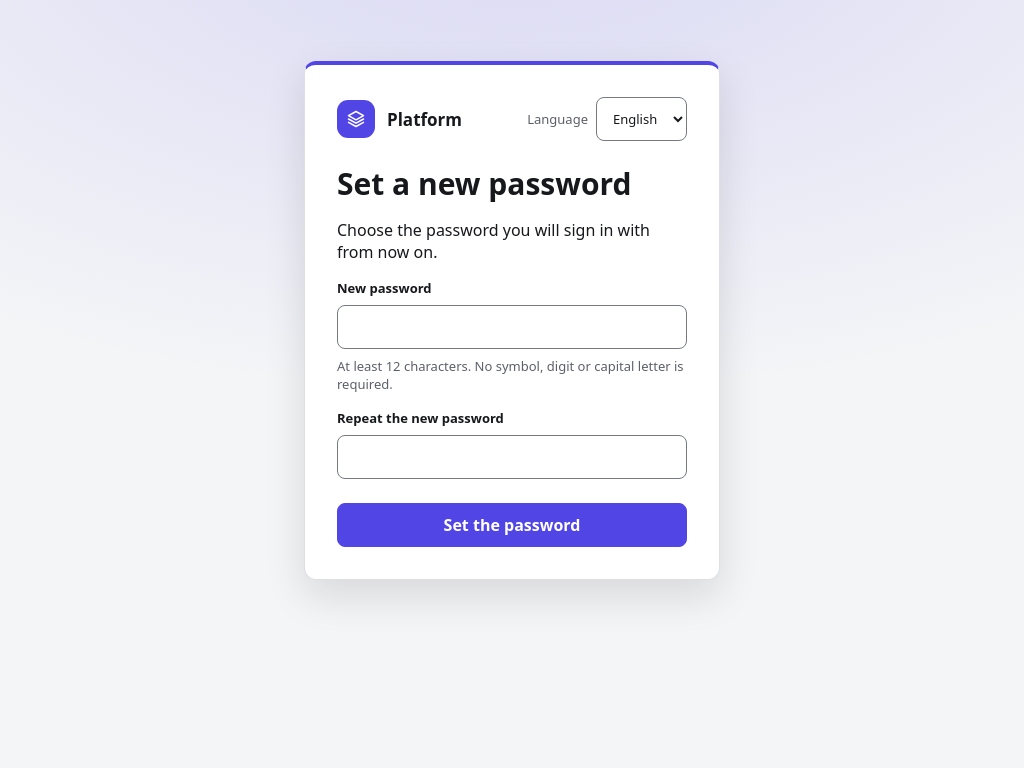
Scenario: reset — the token from the fragment, one message for a token that cannot be used › asks nothing of the API when the two fields differ
Type "one password" into the password field labelled "New password". click: (512, 327)
box: 337,305 -> 687,349
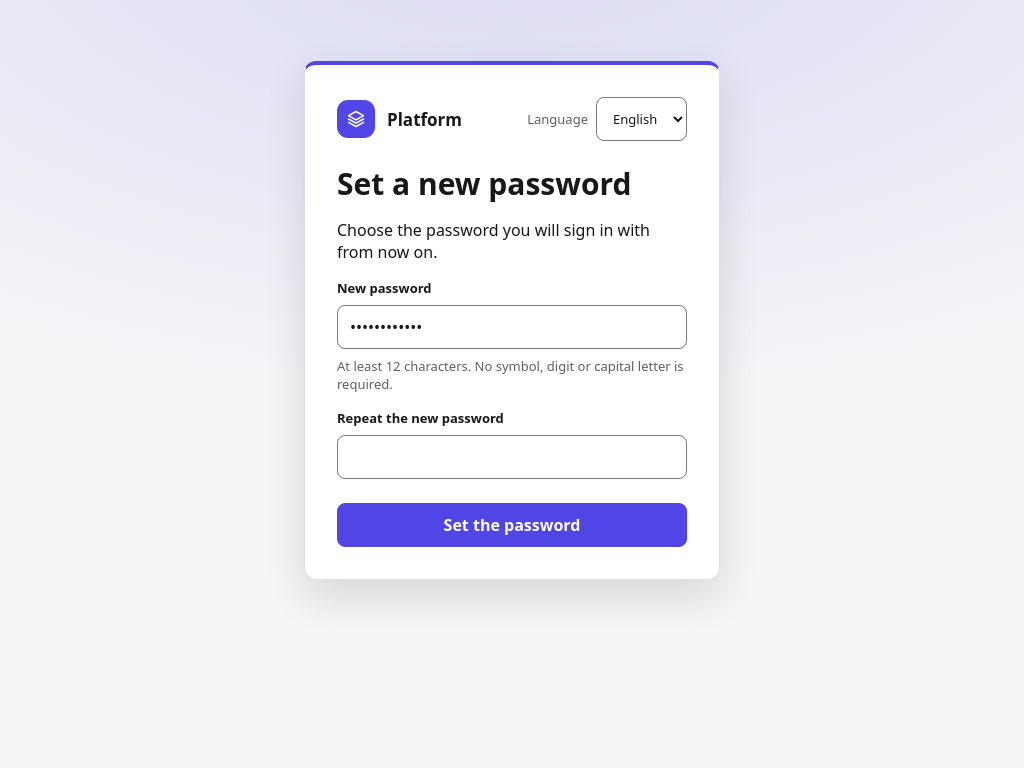
Type "another password" into the password field labelled "Repeat the new password". click: (512, 457)
box: 337,435 -> 687,479
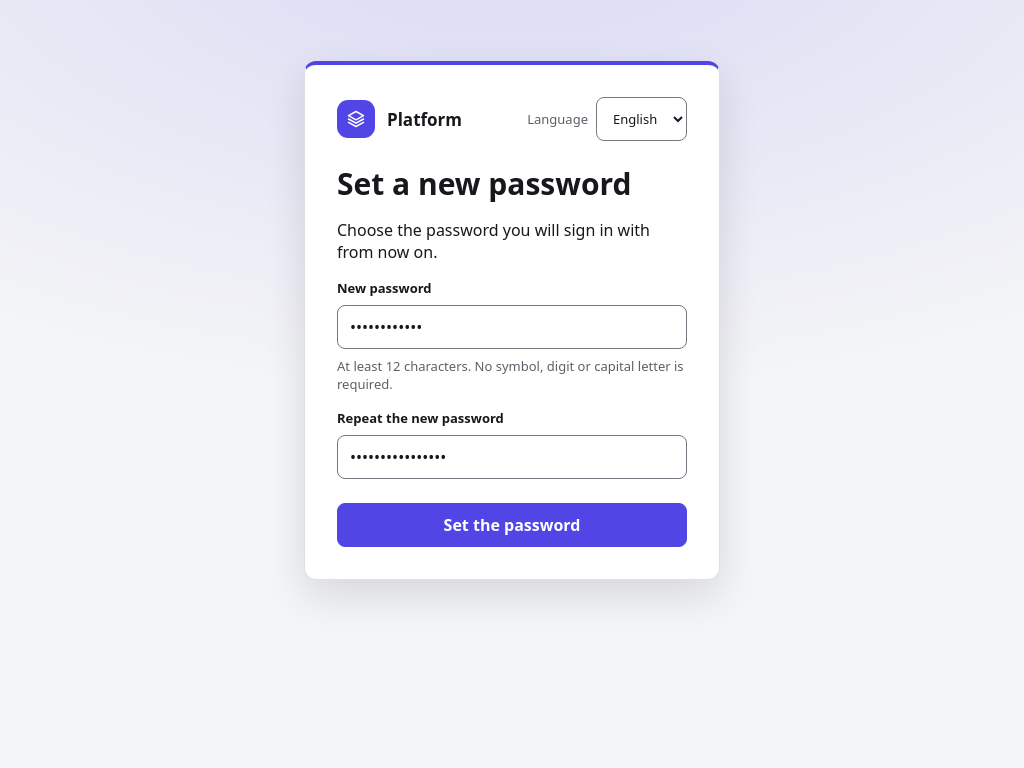
Click the button "Set the password". click: (512, 525)
box: 337,503 -> 687,547
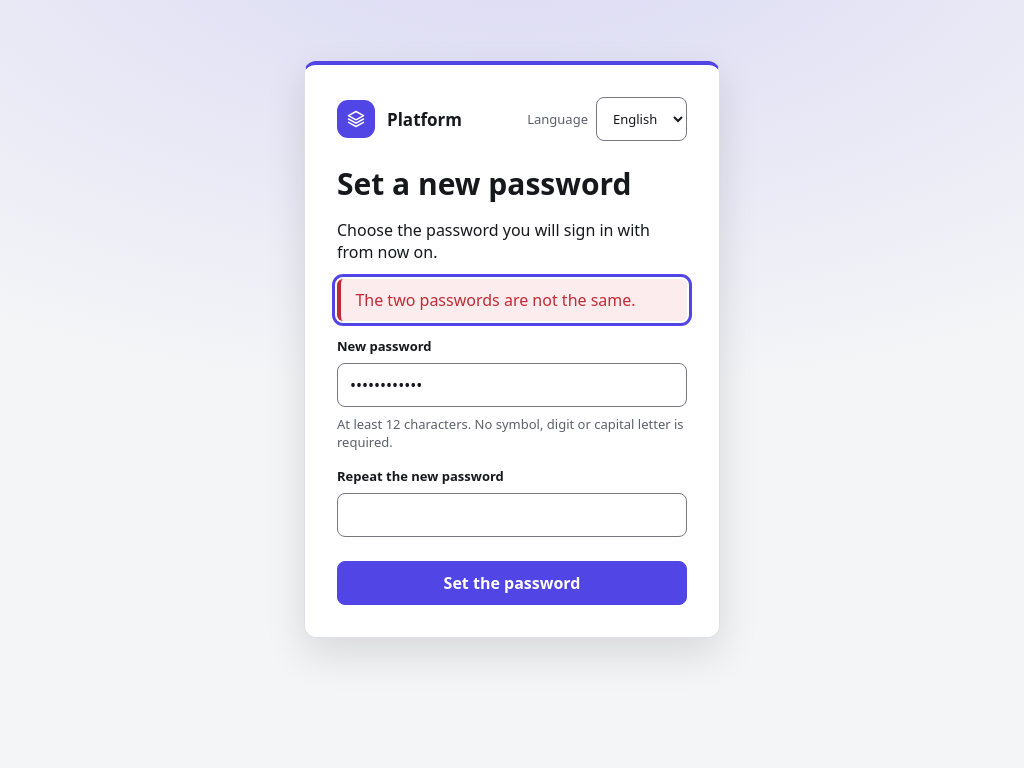
Result: the message shows "not the same" at 355,289 -> 636,311
